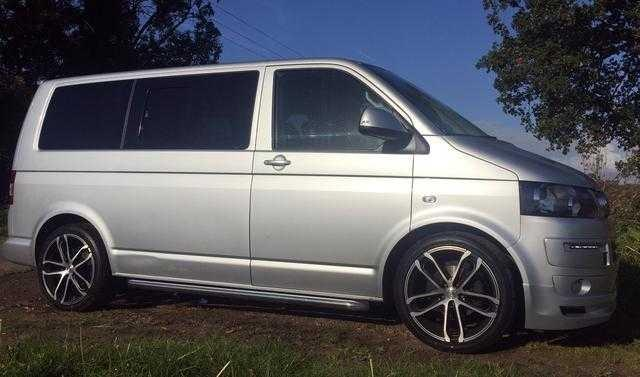car: (0, 57, 614, 353)
